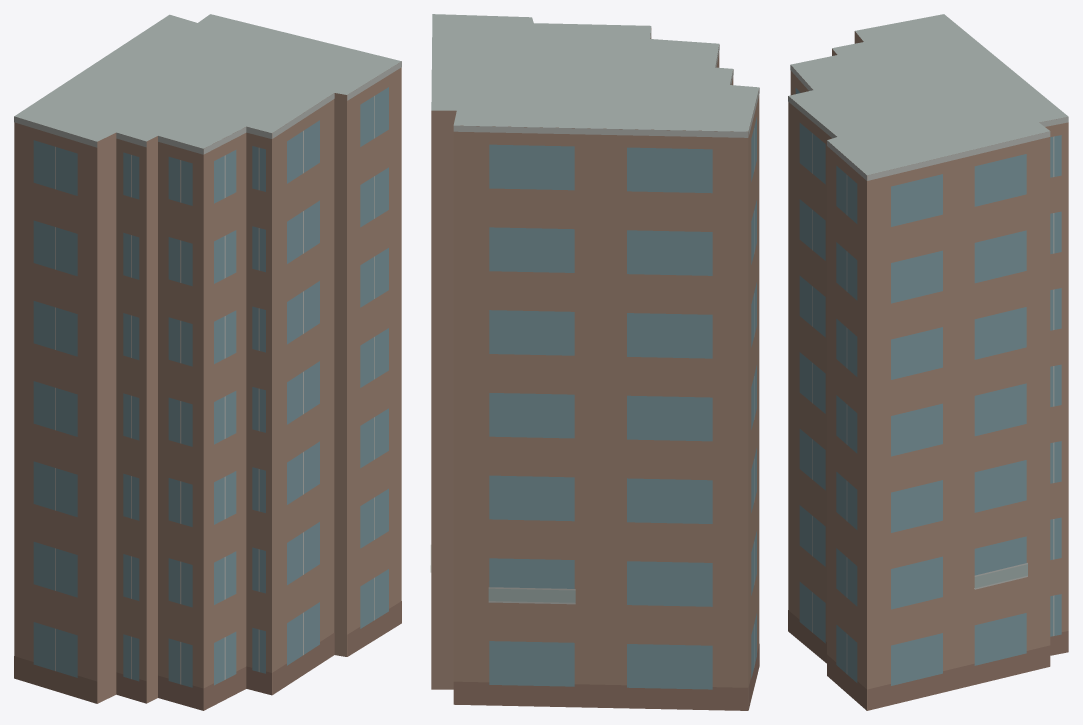
File: survey-upis-33017831.glb
The picture shows the model from 3 angles, left to right: view 1: azimuth 30°, elevation 25°; view 2: azimuth 150°, elevation 25°; view 3: azimuth 270°, elevation 25°; orthographic projection. The views are drawn at different scales.
Visible parts, largest first — view 1: survey-upis-33017831.tmp; view 2: survey-upis-33017831.tmp; view 3: survey-upis-33017831.tmp.
Boxes of the visible parts, bbox=[...] form: survey-upis-33017831.tmp: bbox=[14, 14, 401, 710]; survey-upis-33017831.tmp: bbox=[430, 14, 759, 710]; survey-upis-33017831.tmp: bbox=[788, 14, 1068, 710].
Size of the model in its own units: 14.88 by 23 by 10.93.
